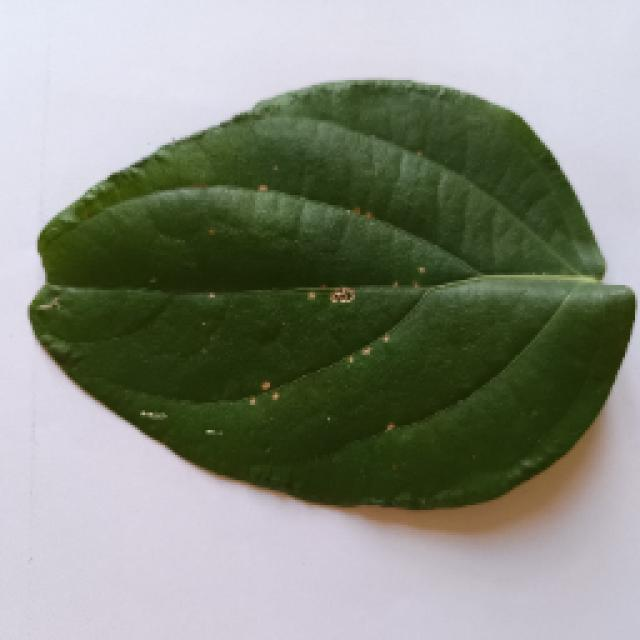pollu-disease: (20, 82, 622, 520)
